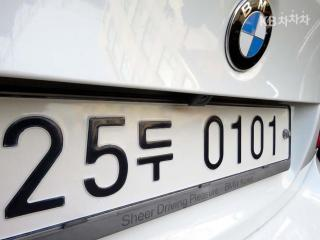0: (199, 111, 228, 171), (246, 113, 266, 161)
1: (229, 112, 245, 165), (266, 112, 280, 157)
2: (1, 109, 67, 220)
5: (78, 108, 131, 200)
두: (133, 114, 176, 184)
